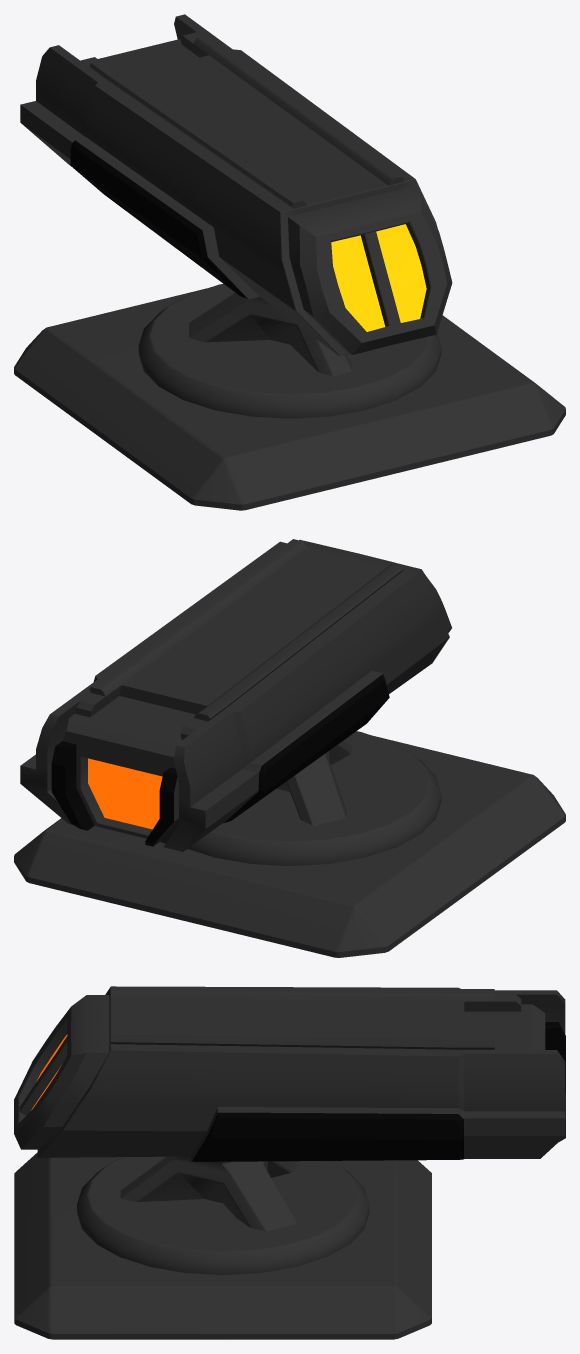
3 renders of one model, top to bottom at view 1: azimuth 30°, elevation 25°; view 2: azimuth 150°, elevation 25°; view 3: azimuth 270°, elevation 25°, orthographic. The views are drawn at different scales.
Visible parts, largest first — view 1: Subject, base, base2, Support frame; view 2: Subject, base, base2, Support frame; view 3: Subject, base, base2, Support frame.
Part boxes in pixels (<box>): Subject: <box>20,14,452,355</box>; base: <box>14,288,565,510</box>; base2: <box>138,284,441,418</box>; Support frame: <box>189,292,352,375</box>; Subject: <box>20,539,451,851</box>; base: <box>14,736,565,957</box>; base2: <box>188,731,441,865</box>; Support frame: <box>277,740,352,825</box>; Subject: <box>14,986,565,1161</box>; base: <box>14,1152,431,1339</box>; base2: <box>77,1156,369,1275</box>; Support frame: <box>120,1156,296,1231</box>.
Bounding box in the file's own units: 0.7566 × 0.4766 × 1.
